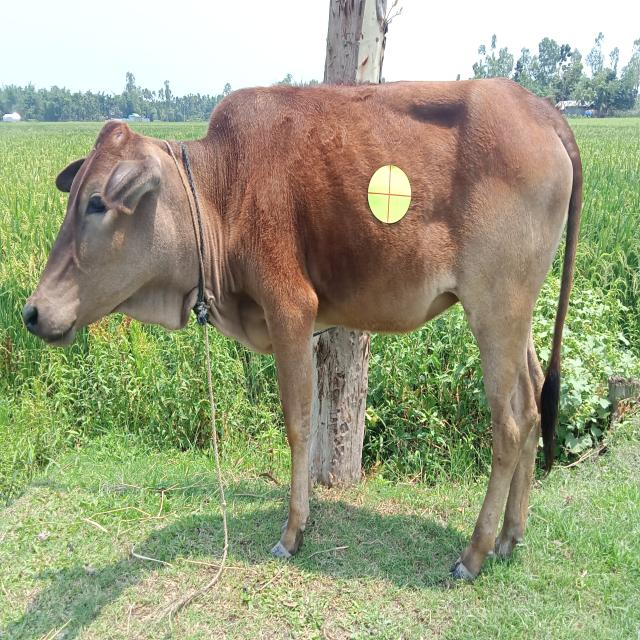badan_sapi: (209, 83, 581, 327)
sapi: (19, 78, 596, 594)
